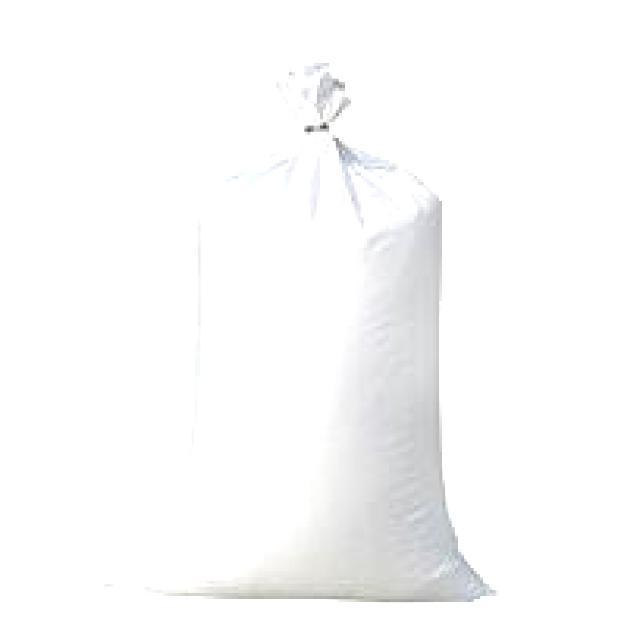gunny_bag: (107, 63, 502, 605)
